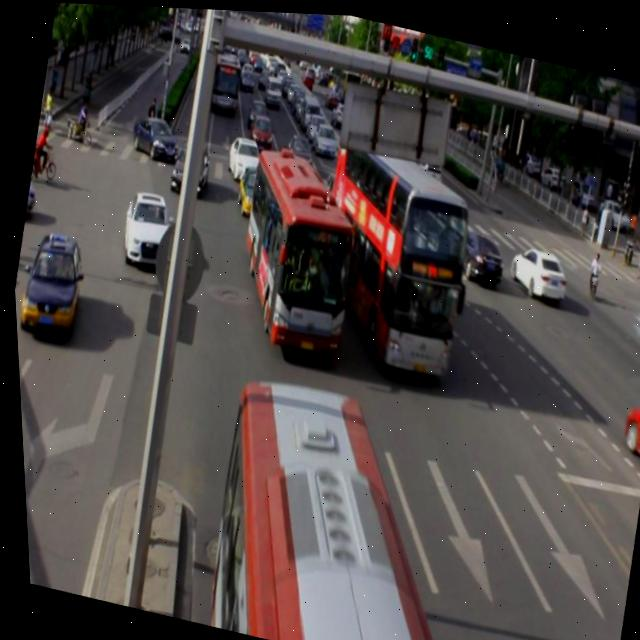car: (11, 227, 89, 340), (113, 184, 179, 271), (502, 235, 568, 299), (605, 387, 640, 486), (165, 133, 215, 194), (231, 159, 276, 217)
van: (191, 366, 483, 640), (299, 129, 483, 373), (224, 143, 370, 353)
